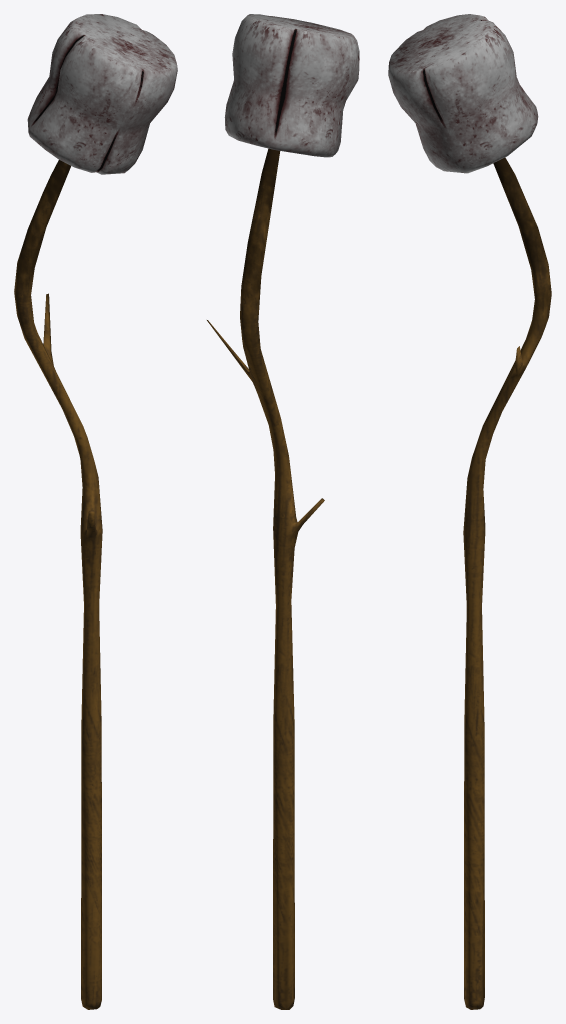
The model's file is Staffmarshmallows.fbx.
The picture shows the model from 3 angles, left to right: view 1: azimuth 90°, elevation 25°; view 2: azimuth 150°, elevation 25°; view 3: azimuth 270°, elevation 25°; orthographic projection.
Visible parts, largest first — view 1: StaffmarshmallowsL; view 2: StaffmarshmallowsL; view 3: StaffmarshmallowsL.
Part boxes in pixels (<box>): StaffmarshmallowsL: <box>14,14,177,1009</box>; StaffmarshmallowsL: <box>207,14,359,1009</box>; StaffmarshmallowsL: <box>388,14,551,1009</box>.
Bounding box in the file's own units: 8.04 × 67.38 × 10.18.
